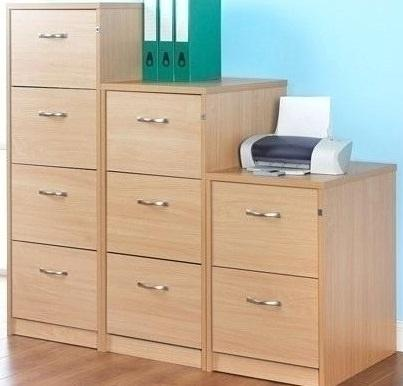cabinet_door: (211, 275, 320, 364), (212, 190, 319, 275), (108, 258, 205, 340), (104, 94, 202, 175), (108, 176, 204, 256), (10, 88, 98, 168), (10, 10, 99, 88), (10, 168, 99, 246), (10, 245, 99, 322)
handle: (244, 206, 285, 225), (246, 294, 285, 312), (134, 196, 172, 213), (135, 279, 171, 296), (135, 114, 172, 130), (36, 106, 68, 123), (37, 186, 71, 202), (39, 265, 70, 282), (37, 30, 70, 45)
